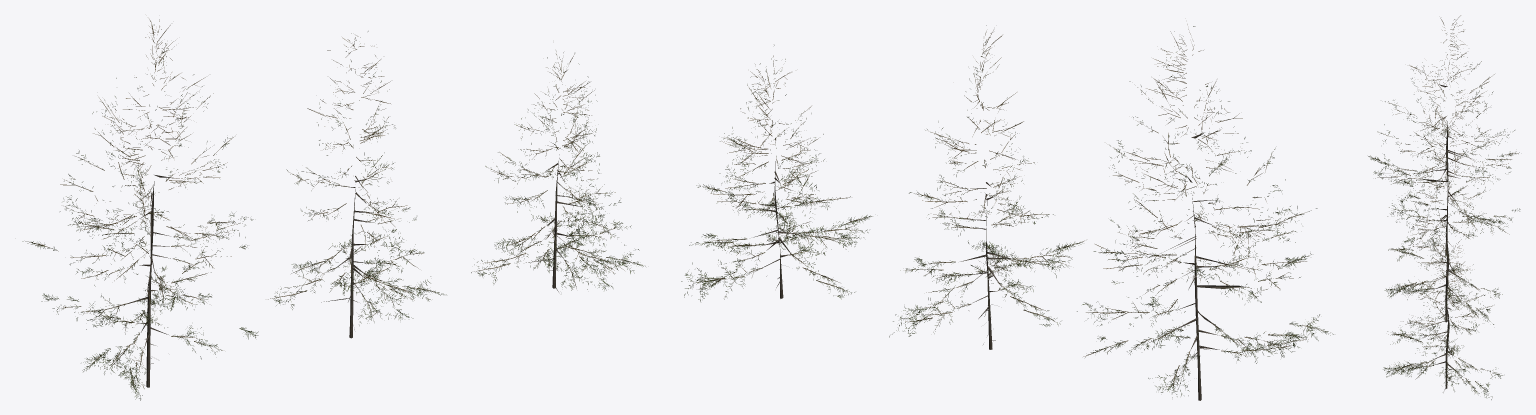
The model's file is fir_sapling_medium_lod2.glb.
3 views of the same model, side by side, from view 1: azimuth 30°, elevation 25°; view 2: azimuth 150°, elevation 25°; view 3: azimuth 270°, elevation 25° (orthographic). The views are drawn at different scales.
Parts seen in each view (by area): view 1: fir_sapling_medium_a_LOD0; view 2: fir_sapling_medium_a_LOD0; view 3: fir_sapling_medium_a_LOD0.
Part boxes in pixels (x1=…): fir_sapling_medium_a_LOD0: x1=22, y1=19, x2=645, y2=400; fir_sapling_medium_a_LOD0: x1=681, y1=24, x2=1333, y2=400; fir_sapling_medium_a_LOD0: x1=1368, y1=15, x2=1520, y2=399.
Bounding box in the file's own units: 14.52 × 8.75 × 4.97.
3 materials, 3 textured.
